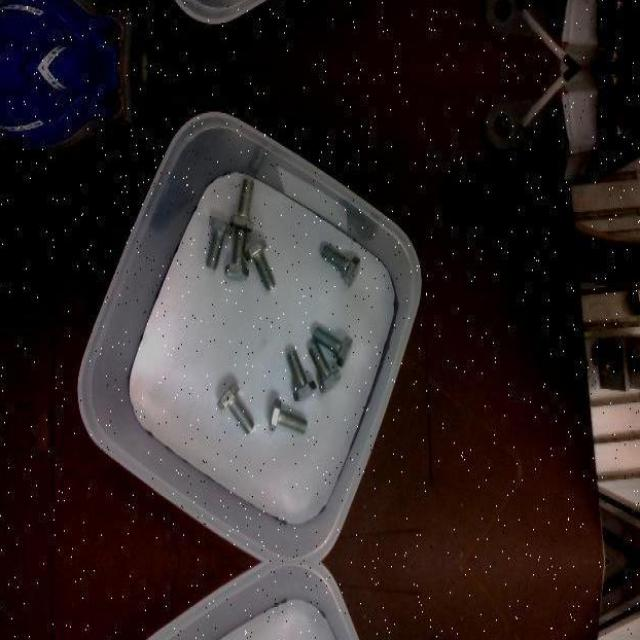screw: (230, 179, 266, 233), (217, 382, 255, 433), (308, 342, 342, 392), (244, 238, 276, 290), (313, 327, 353, 368), (322, 244, 361, 286), (287, 349, 317, 401), (206, 217, 233, 271), (270, 397, 308, 434), (225, 228, 250, 280)
